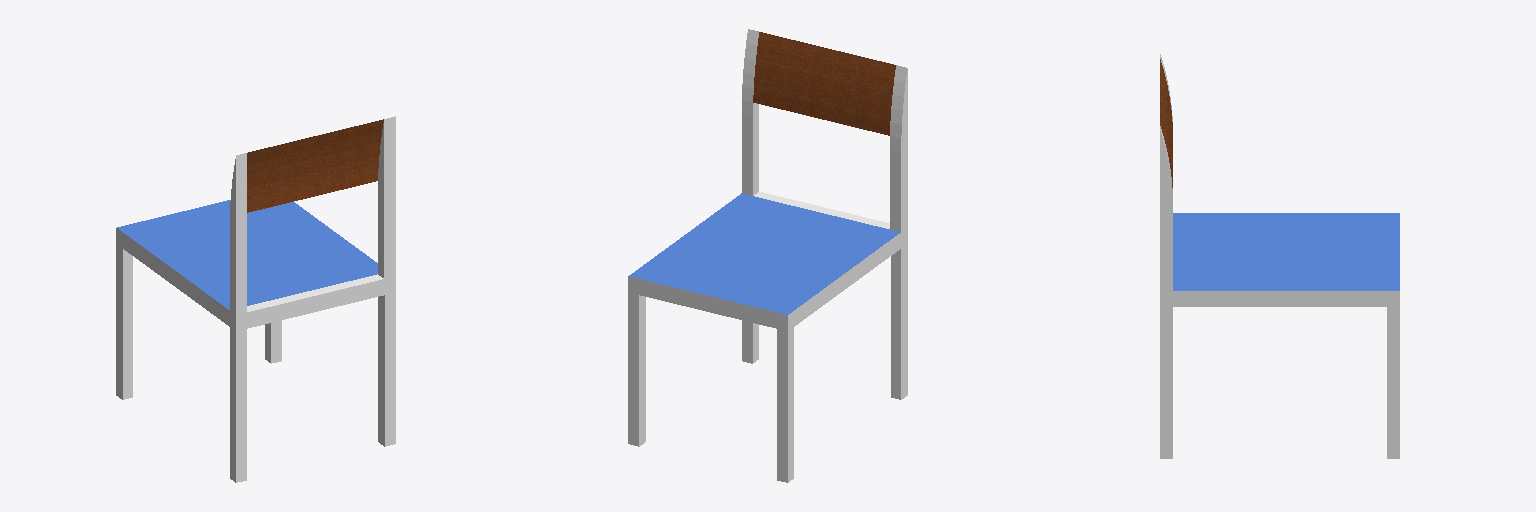
3 views of the same model, side by side, from view 1: azimuth 30°, elevation 25°; view 2: azimuth 150°, elevation 25°; view 3: azimuth 270°, elevation 25° (orthographic).
Visible parts, largest first — view 1: mesh1_mesh1-geometry; view 2: mesh1_mesh1-geometry; view 3: mesh1_mesh1-geometry.
Boxes of the visible parts, box(x1,y1,x2,y2) form: mesh1_mesh1-geometry: box(116, 116, 395, 482); mesh1_mesh1-geometry: box(628, 29, 907, 482); mesh1_mesh1-geometry: box(1160, 54, 1399, 458).
Bounding box in the file's own units: 0.391 × 0.7676 × 0.5078.
Materials: 5 (1 with a texture image).